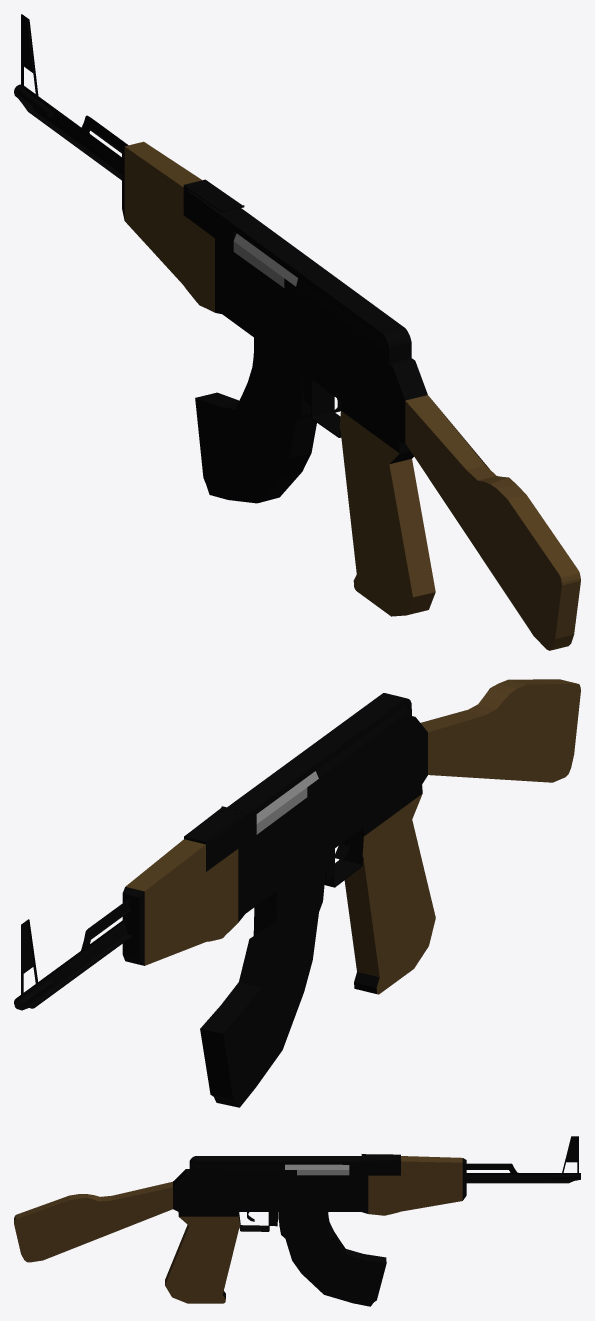
3 views of the same model, one above another, from view 1: azimuth 30°, elevation 25°; view 2: azimuth 150°, elevation 25°; view 3: azimuth 270°, elevation 25° (orthographic). The views are drawn at different scales.
Parts seen in each view (by area): view 1: ak47-cross maron, ak47-Princ, ak47-chargeur, ak - partie acier gris; view 2: ak47-cross maron, ak47-Princ, ak47-chargeur, ak - partie acier gris; view 3: ak47-cross maron, ak47-Princ, ak47-chargeur, ak - partie acier gris.
Boxes of the visible parts, bbox=[...] form: ak47-cross maron: bbox=[124, 141, 580, 650]; ak47-Princ: bbox=[14, 14, 427, 464]; ak47-chargeur: bbox=[195, 338, 316, 503]; ak - partie acier gris: bbox=[233, 233, 297, 287]; ak47-cross maron: bbox=[125, 679, 580, 994]; ak47-Princ: bbox=[14, 693, 427, 1010]; ak47-chargeur: bbox=[200, 856, 324, 1107]; ak - partie acier gris: bbox=[256, 771, 318, 834]; ak47-cross maron: bbox=[14, 1156, 462, 1303]; ak47-Princ: bbox=[173, 1136, 580, 1298]; ak47-chargeur: bbox=[279, 1212, 386, 1306]; ak - partie acier gris: bbox=[285, 1164, 349, 1175].
Size of the model in its own units: 11.55 by 137 by 417.
